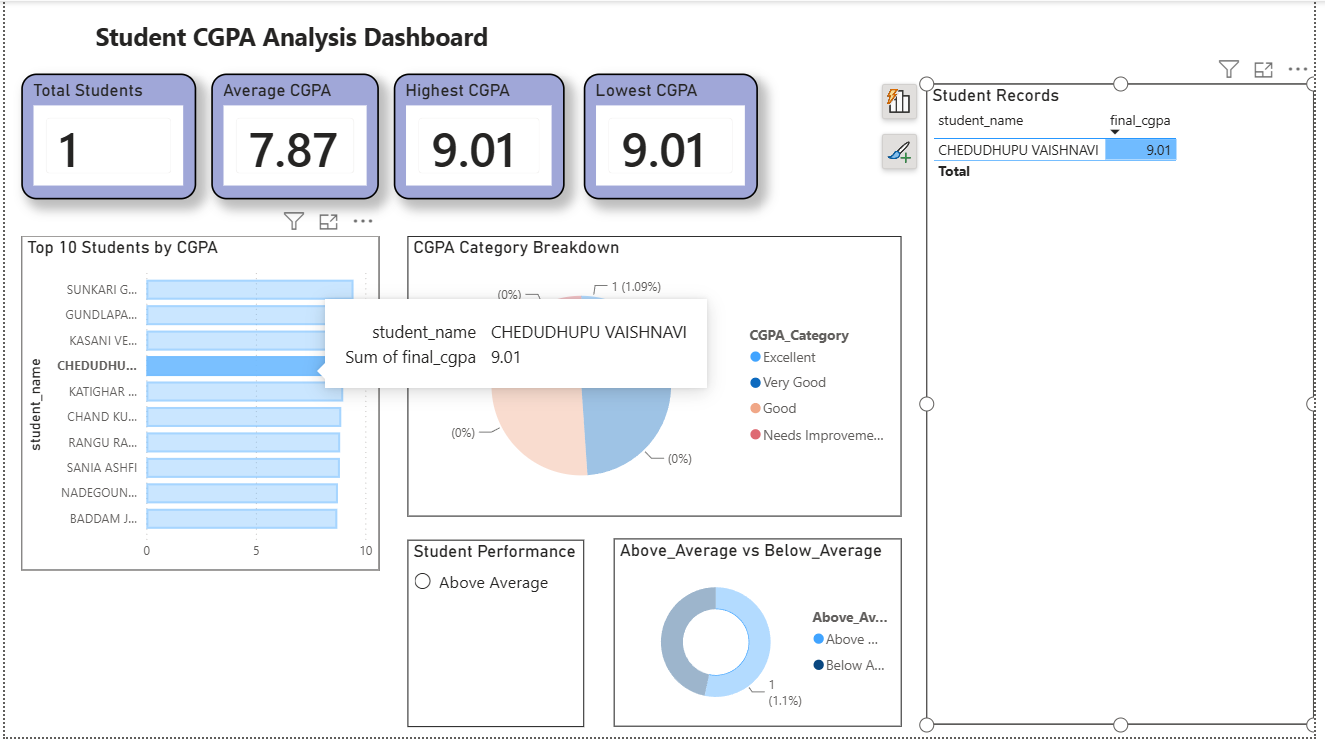

This screenshot's page, from the dashboard's own definition file:
{"tool":"powerbi","page":{"name":"Page 1","canvas":[1280,720],"ordinal":0},"visuals":[{"type":"tableEx","title":"Student Records","fields":{"Values":["AIML.Column3","AIML.final_cgpa"]},"box":[901.4,71.4,322.9,637.1],"z":0},{"type":"pieChart","title":"CGPA Category Breakdown","fields":{"Y":["AIML.total_students"],"Category":["AIML.CGPA_Category"]},"box":[394.3,230,482.9,274.3],"z":1000},{"type":"donutChart","title":"Above_Average vs Below_Average","fields":{"Y":["AIML.total_students"],"Category":["AIML.Above_Average"]},"box":[595.7,525.7,281.4,184.3],"z":2000},{"type":"listSlicer","title":"Student Performance","fields":{"Values":["AIML.Above_Average"]},"box":[394.3,527.1,172.9,182.9],"z":3000},{"type":"clusteredBarChart","title":"Top 10 Students by CGPA","fields":{"Category":["AIML.student_name"],"Y":["Sum(AIML.final_cgpa)"]},"box":[15.7,230,350,327.1],"z":4000},{"type":"cardVisual","title":"Total Students","fields":{"Data":["AIML.total_students"]},"box":[15.7,71.4,171.4,122.9],"z":5000},{"type":"cardVisual","title":"Average CGPA","fields":{"Data":["AIML.Average_CGPA"]},"box":[201.4,71.4,164.3,122.9],"z":6000},{"type":"cardVisual","title":"Highest CGPA","fields":{"Data":["AIML.highest_cgpa"]},"box":[380,71.4,167.1,122.9],"z":7000},{"type":"cardVisual","title":"Lowest CGPA","fields":{"Data":["AIML.lowest_cgpa"]},"box":[565.7,71.4,170,122.9],"z":8000},{"type":"textbox","box":[34.2,13.5,492.8,48.9],"z":9000}]}

Visuals, with their boxes in screenshot pixels (x1, y1, x2, y2):
"Student Records" tableEx: l=923, t=73, r=1251, b=720
"CGPA Category Breakdown" pieChart: l=408, t=234, r=898, b=512
"Above_Average vs Below_Average" donutChart: l=612, t=534, r=898, b=721
"Student Performance" listSlicer: l=408, t=536, r=583, b=721
"Top 10 Students by CGPA" clusteredBarChart: l=23, t=234, r=378, b=566
"Total Students" cardVisual: l=23, t=73, r=197, b=197
"Average CGPA" cardVisual: l=212, t=73, r=378, b=197
"Highest CGPA" cardVisual: l=393, t=73, r=563, b=197
"Lowest CGPA" cardVisual: l=582, t=73, r=754, b=197
textbox: l=42, t=14, r=542, b=63
